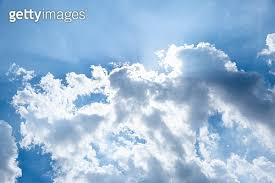sky: (3, 20, 275, 182)
